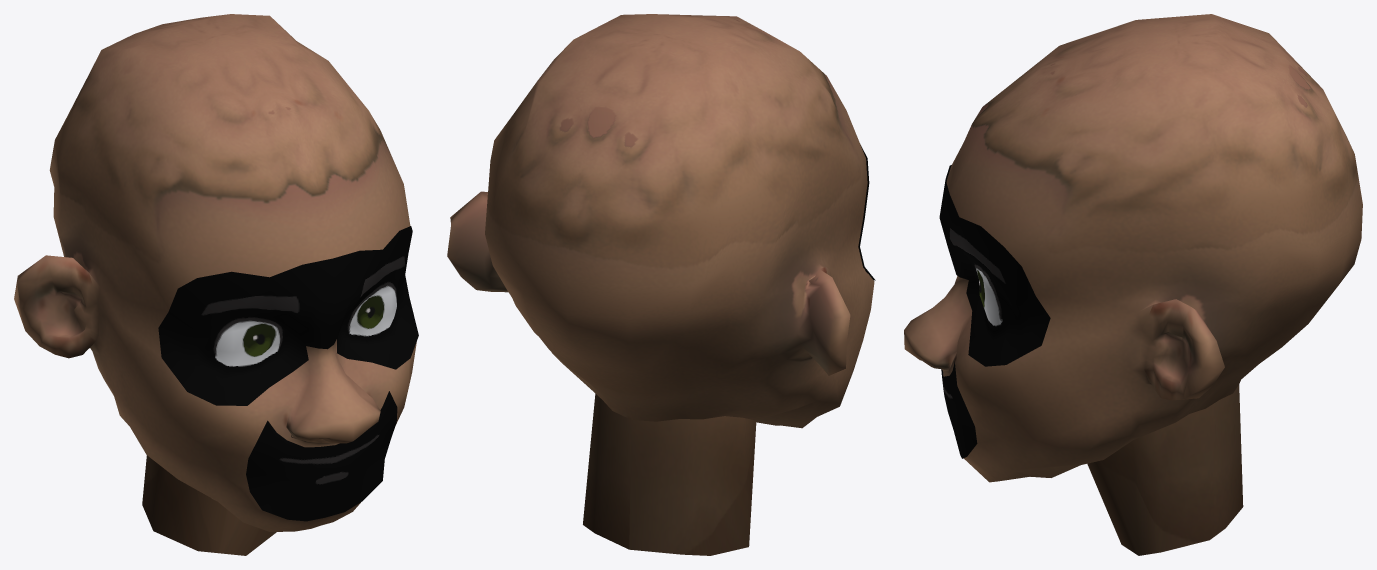
The model's file is M_Head_01.fbx.
3 renders of one model, left to right at view 1: azimuth 30°, elevation 25°; view 2: azimuth 150°, elevation 25°; view 3: azimuth 270°, elevation 25°, orthographic. The views are drawn at different scales.
Parts seen in each view (by area): view 1: MDL_M_Head_01; view 2: MDL_M_Head_01; view 3: MDL_M_Head_01.
Part boxes in pixels (x1=…): MDL_M_Head_01: x1=14, y1=14, x2=418, y2=555; MDL_M_Head_01: x1=447, y1=14, x2=875, y2=555; MDL_M_Head_01: x1=904, y1=14, x2=1362, y2=555.
Bounding box in the file's own units: 3.78 × 4.79 × 3.93.
